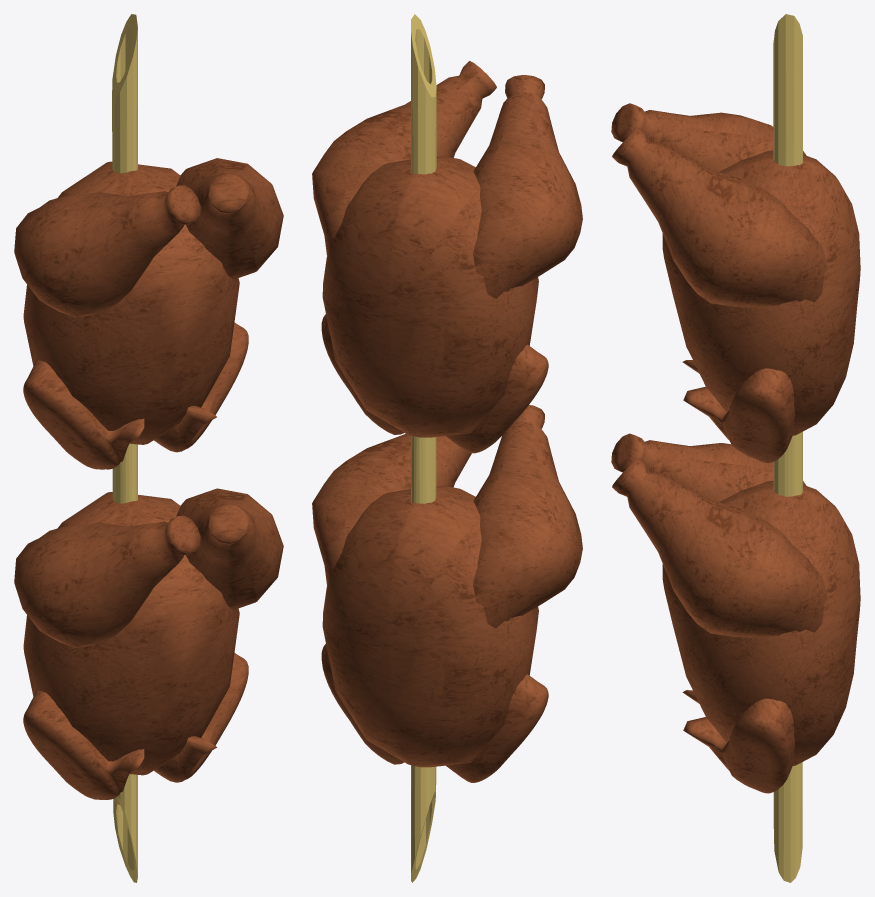
File: Pole_Bamboo_TwoChickenCooked.glb
3 renders of one model, left to right at view 1: azimuth 30°, elevation 25°; view 2: azimuth 150°, elevation 25°; view 3: azimuth 270°, elevation 25°, orthographic.
Parts seen in each view (by area): view 1: Chicken.001, Chicken, Cylinder; view 2: Chicken.001, Chicken, Cylinder; view 3: Chicken.001, Chicken, Cylinder.
Part boxes in pixels (x1=…): Chicken.001: x1=14, y1=158, x2=283, y2=469; Chicken: x1=14, y1=488, x2=283, y2=799; Cylinder: x1=112, y1=14, x2=137, y2=882; Chicken.001: x1=312, y1=61, x2=582, y2=453; Chicken: x1=312, y1=405, x2=582, y2=782; Cylinder: x1=411, y1=14, x2=436, y2=882; Chicken.001: x1=611, y1=103, x2=860, y2=463; Chicken: x1=611, y1=433, x2=860, y2=793; Cylinder: x1=773, y1=14, x2=802, y2=882.
Bounding box in the file's own units: 0.9061 × 3.02 × 0.785.
3 materials, 2 textured.
